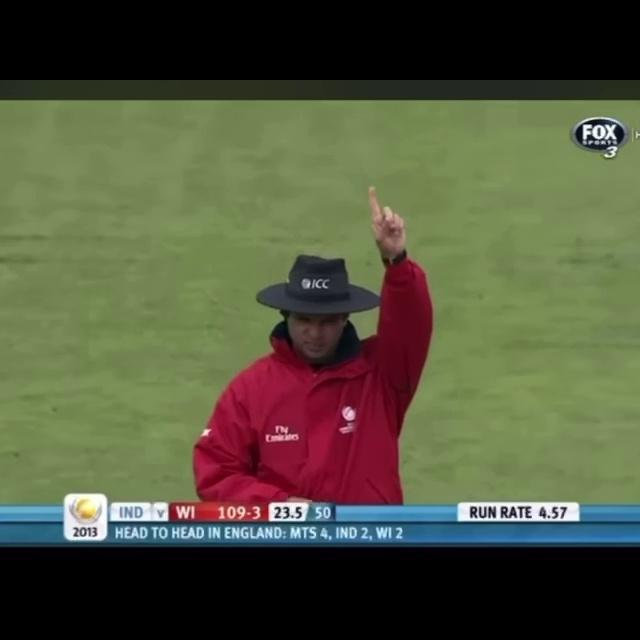umpire: (188, 154, 431, 505)
